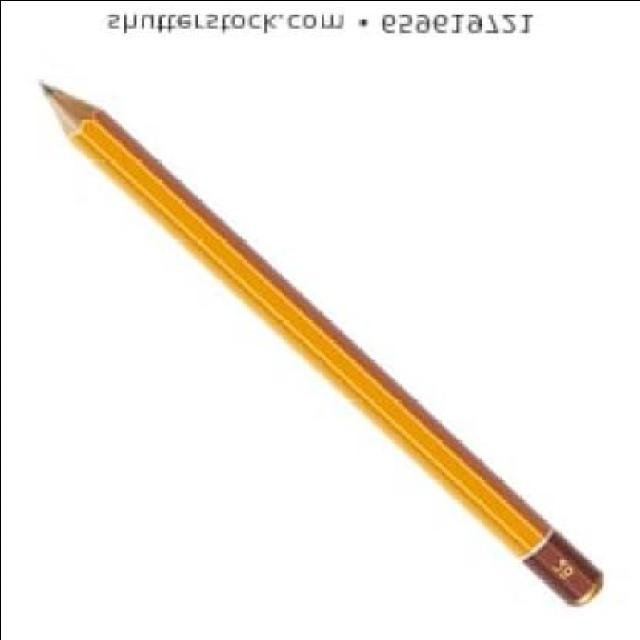Pencil: (25, 69, 144, 191)
